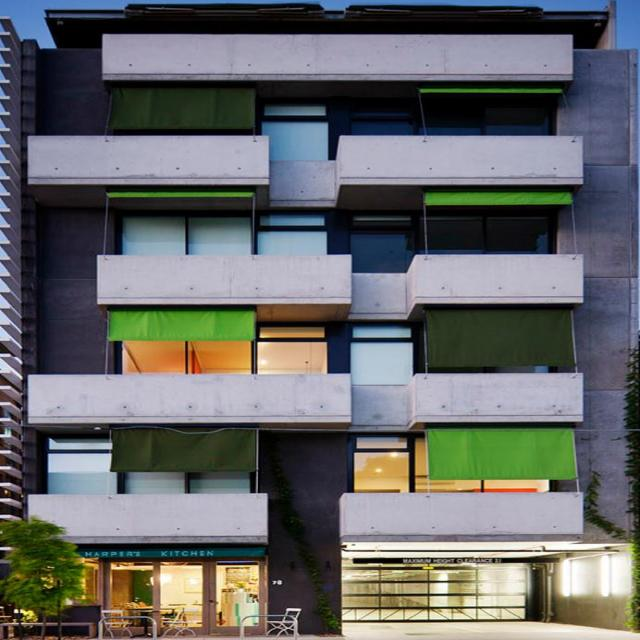door: (83, 564, 266, 628), (344, 563, 533, 621)
window: (47, 439, 258, 497), (356, 435, 549, 495), (352, 218, 557, 273), (118, 328, 333, 378), (119, 215, 327, 254), (344, 111, 553, 135), (264, 107, 331, 159)
